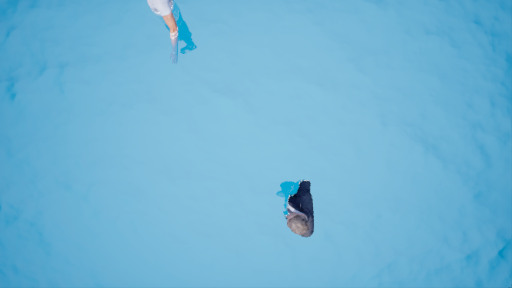person: (276, 173, 325, 241)
